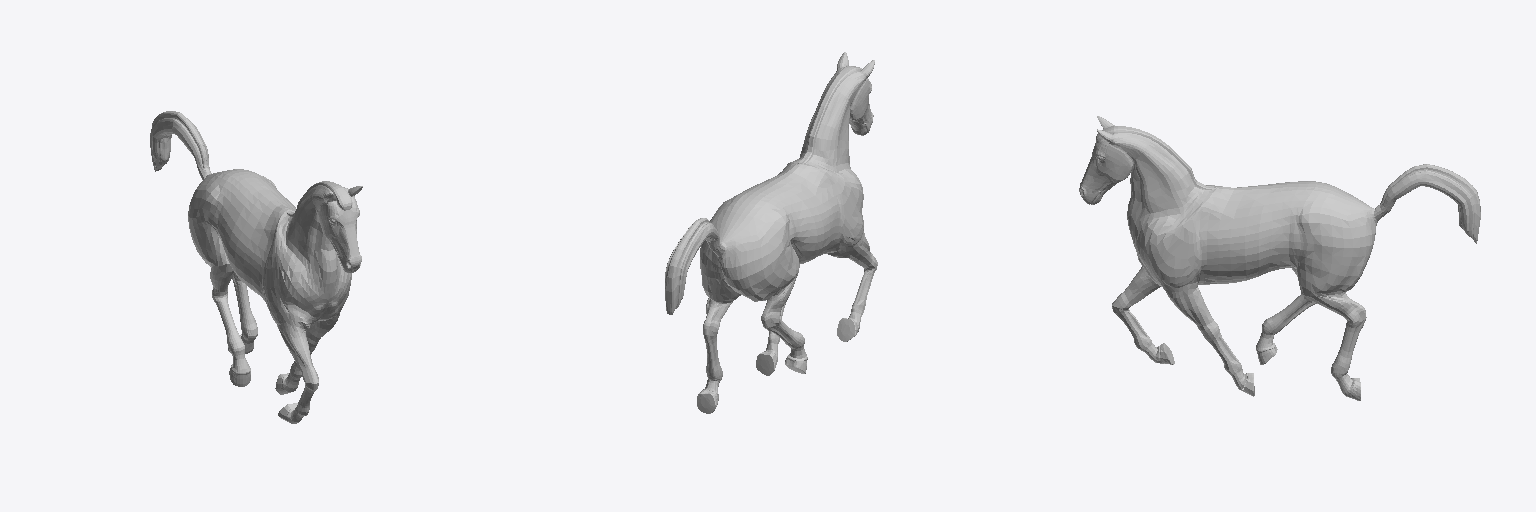
Rendered from horse_obj_4.obj.
The picture shows the model from 3 angles: view 1: azimuth 30°, elevation 25°; view 2: azimuth 150°, elevation 25°; view 3: azimuth 270°, elevation 25°; orthographic projection.
Bounding box in the file's own units: 0.2421 × 0.7941 × 1.08.